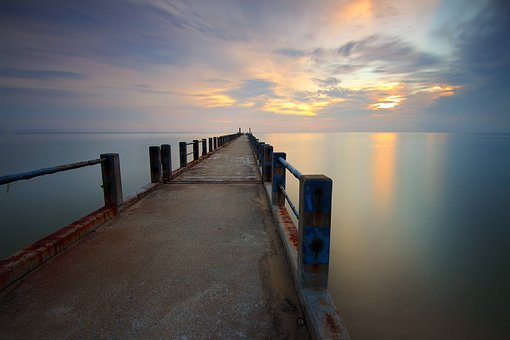sea: (9, 132, 506, 338)
sky: (1, 1, 506, 131)
